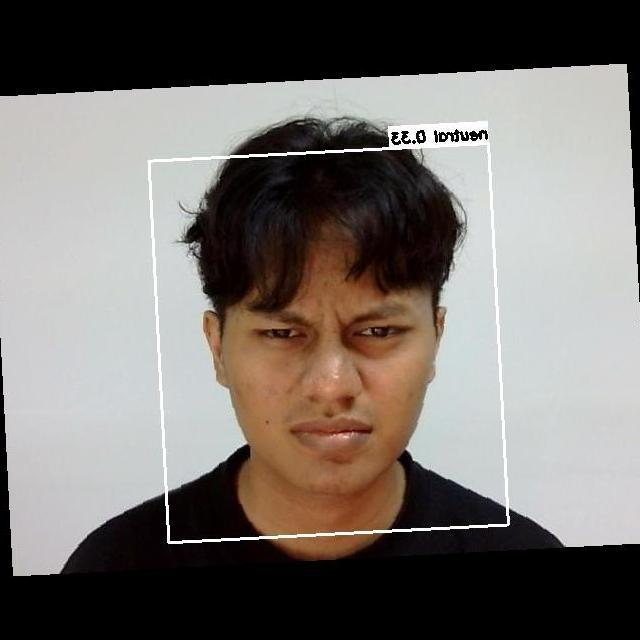Angry: (221, 278, 438, 465)
